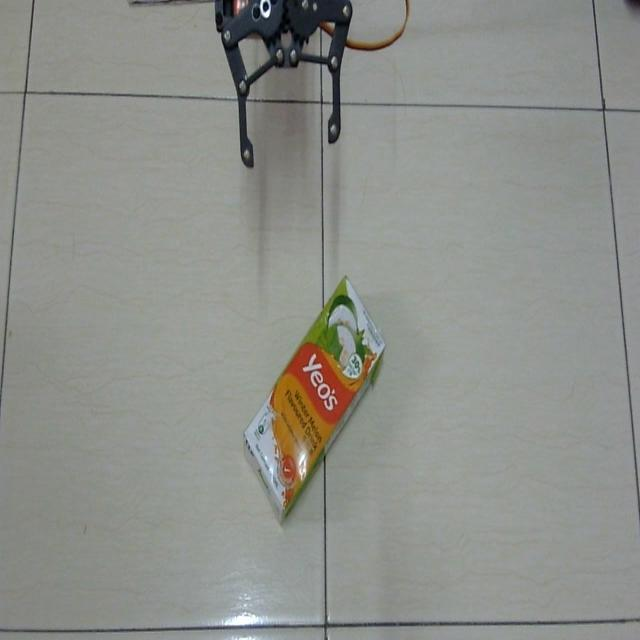Plastic-laydown_45right-rotation: (240, 262, 386, 528)
